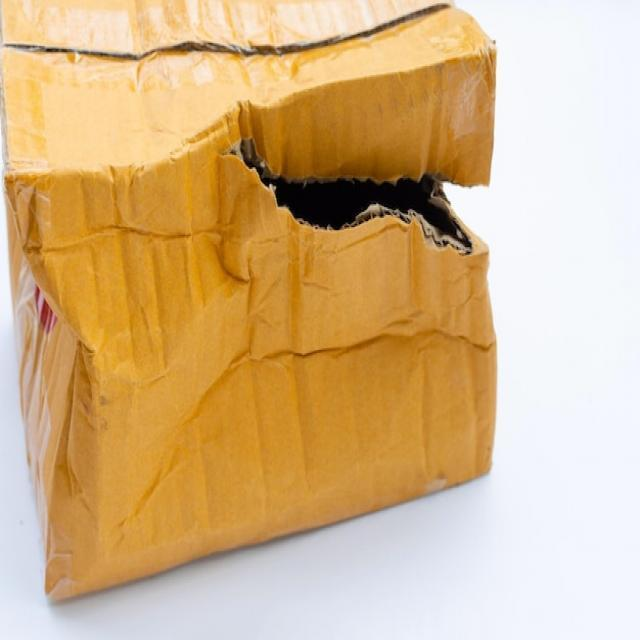damaged: (220, 122, 484, 283)
